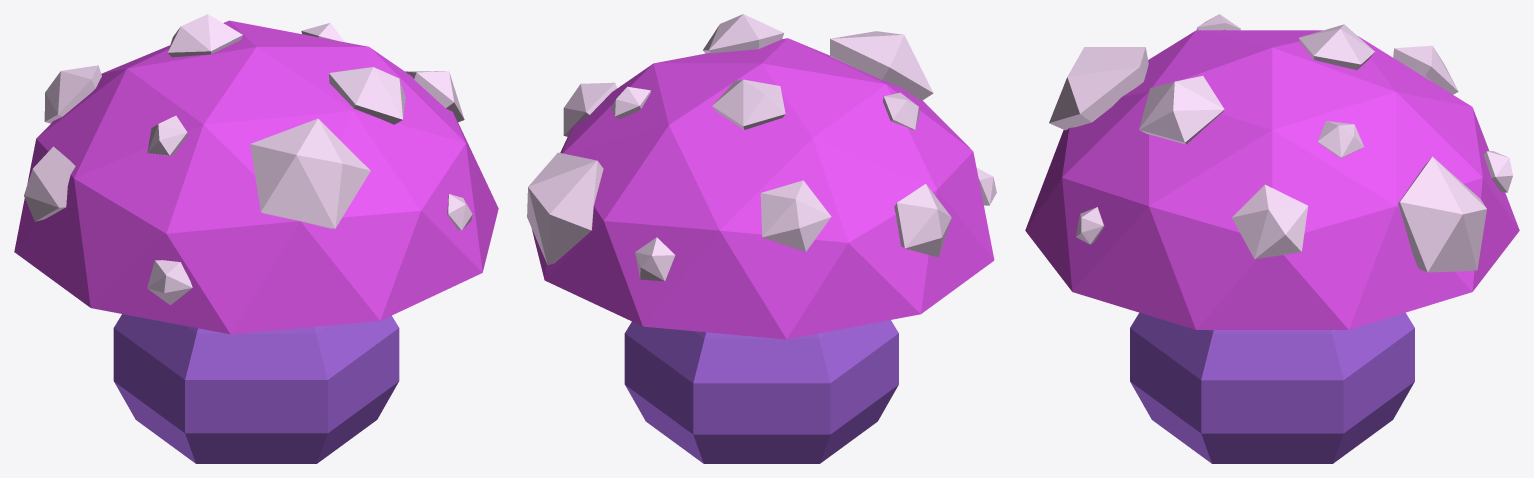
File: mushroom_1.fbx
3 renders of one model, left to right at view 1: azimuth 30°, elevation 25°; view 2: azimuth 150°, elevation 25°; view 3: azimuth 270°, elevation 25°, orthographic. The views are drawn at different scales.
Visible parts, largest first — view 1: top, base, dot; view 2: top, base, dot; view 3: top, base, dot.
Part boxes in pixels (x1,y1,x2,y2): top: (14,20,498,334); base: (113,314,399,463); dot: (24,14,472,305); top: (531,38,994,339); base: (624,320,898,463); dot: (527,14,996,281); top: (1025,30,1519,329); base: (1130,312,1414,463); dot: (1049,14,1512,272).
Bounding box in the file's own units: 3.04 × 2.69 × 3.14.
Materials: 1 (1 with a texture image).
